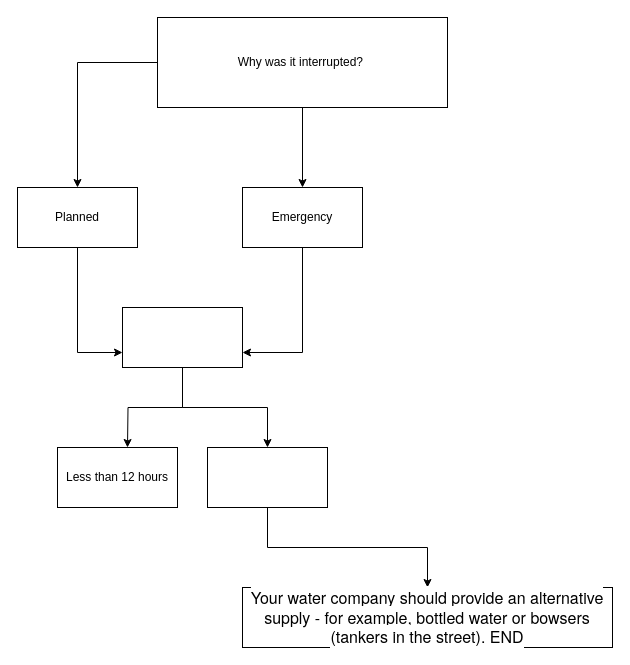
Image size: 630x665. Some labels were removed from this diagram. Each missing label, with the box of its shape:
How long did it last?: (122, 306, 242, 368)
More than 12 hours: (206, 446, 328, 508)
